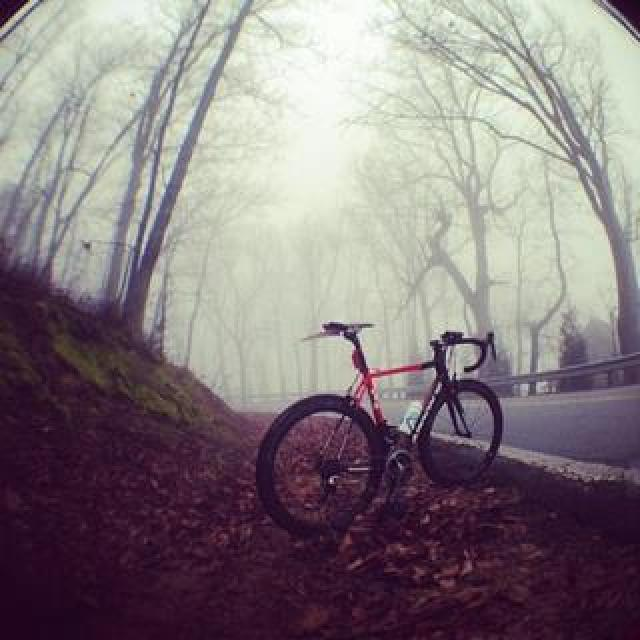Person: (254, 321, 510, 537)
